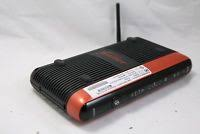Verizon Router: (27, 1, 196, 127)
